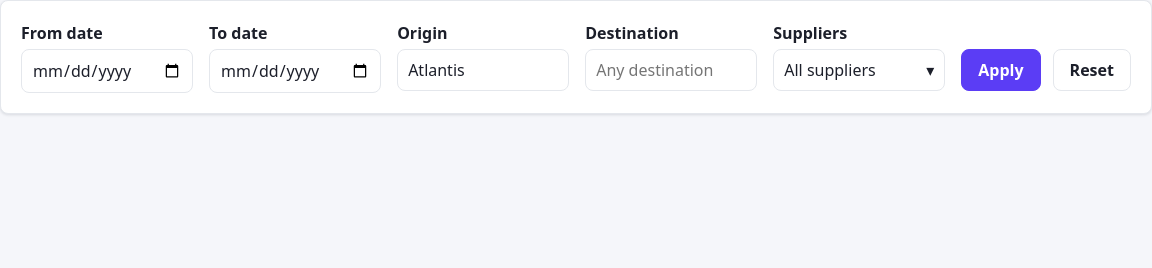
Scenario: HistoryFiltersComponent › does not apply a place that is not in the list
Click the button "Apply": click(1001, 70) x1=961 y1=49 x2=1041 y2=91
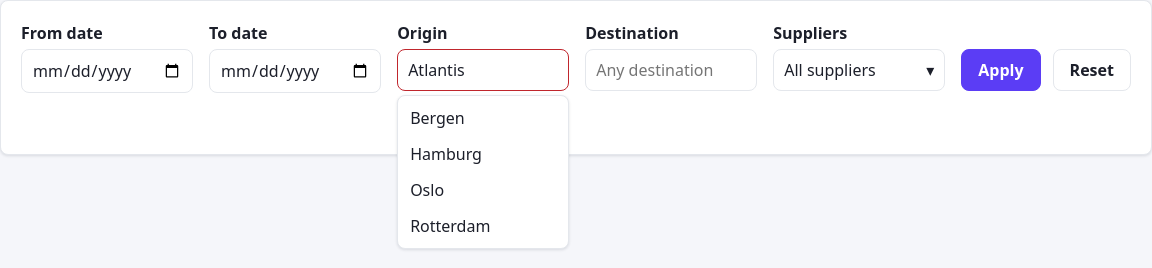
Result: the text "Choose a place from the list." is shown at x1=397 y1=95 x2=569 y2=134
